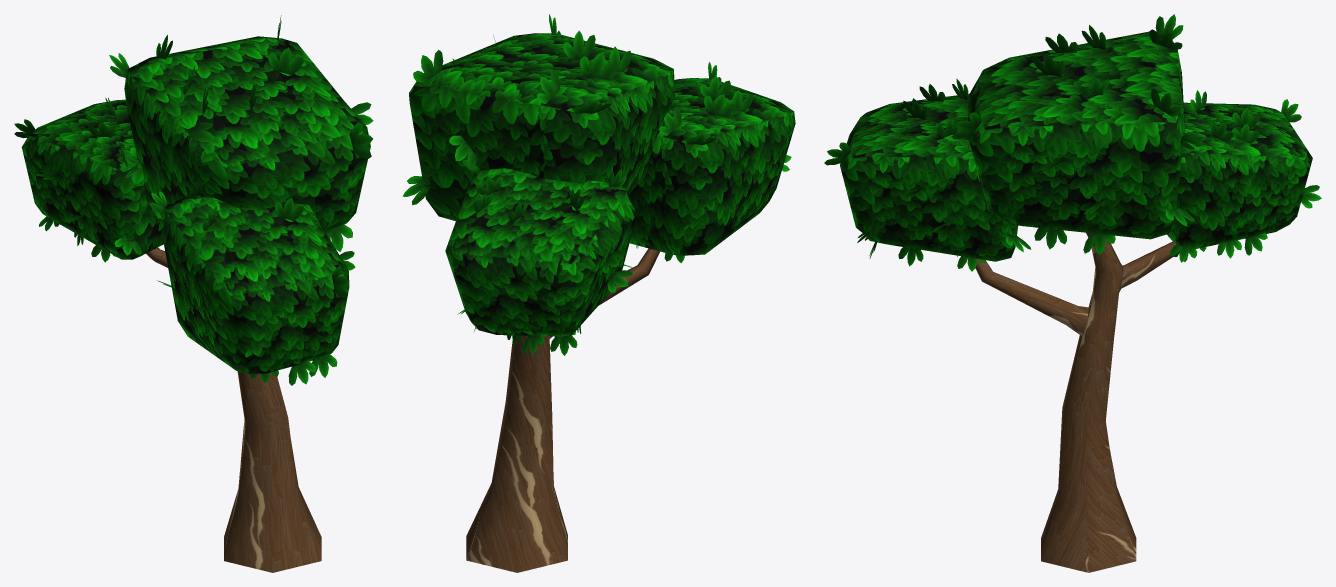
Rendered from stylized_tree.glb.
The picture shows the model from 3 angles, left to right: view 1: azimuth 30°, elevation 25°; view 2: azimuth 150°, elevation 25°; view 3: azimuth 270°, elevation 25°; orthographic projection. The views are drawn at different scales.
Parts seen in each view (by area): view 1: polySurface1, polySurface36, polySurface39, polySurface2, polySurface22, polySurface3; view 2: polySurface1, polySurface39, polySurface36, polySurface2, polySurface24, polySurface62, polySurface64, polySurface17; view 3: polySurface1, polySurface2, polySurface36, polySurface39.
Part boxes in pixels (x1,y1,x2,y2): polySurface1: (124, 36, 370, 232); polySurface36: (162, 196, 349, 373); polySurface39: (21, 99, 163, 259); polySurface2: (146, 247, 321, 572); polySurface22: (268, 47, 303, 74); polySurface3: (349, 122, 373, 158); polySurface1: (409, 33, 675, 221); polySurface39: (445, 168, 637, 336); polySurface36: (628, 78, 795, 255); polySurface2: (466, 248, 659, 572); polySurface24: (579, 52, 617, 79); polySurface62: (563, 30, 595, 60); polySurface64: (413, 50, 443, 82); polySurface17: (449, 135, 476, 169); polySurface1: (967, 31, 1184, 239); polySurface2: (975, 232, 1176, 572); polySurface36: (840, 93, 1017, 261); polySurface39: (1167, 102, 1312, 248).
Size of the model in its own units: 3.69 by 7.09 by 6.55.
1 material, 1 textured.
